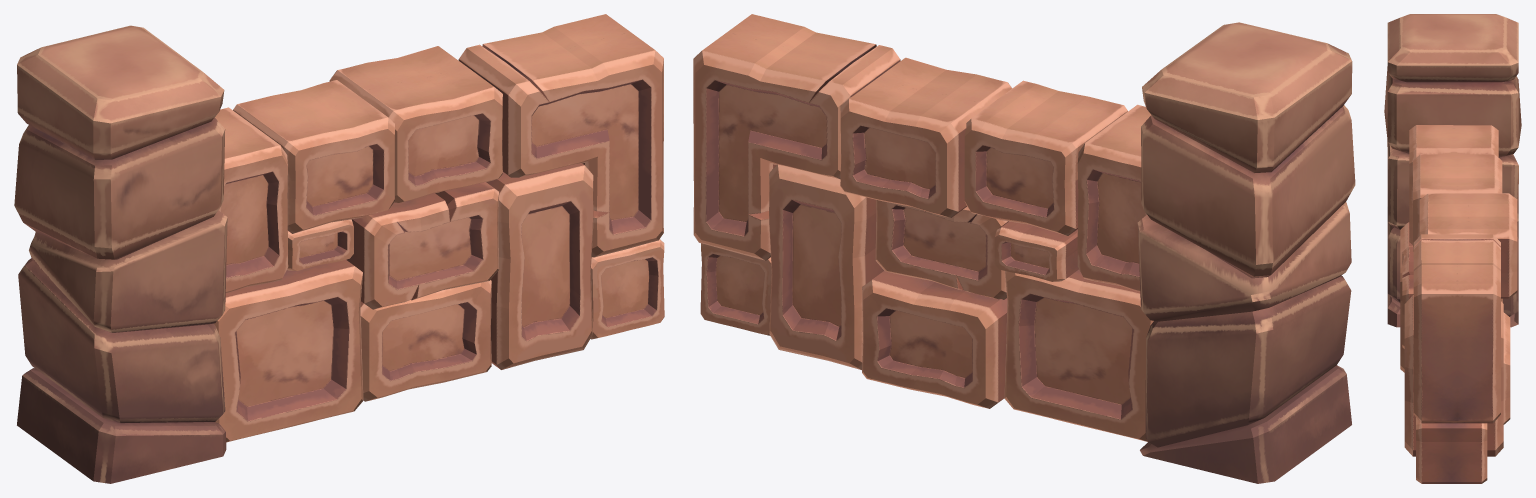
The model's file is HalfWallHalfPillar.fbx.
The picture shows the model from 3 angles, left to right: view 1: azimuth 30°, elevation 25°; view 2: azimuth 150°, elevation 25°; view 3: azimuth 270°, elevation 25°; orthographic projection. The views are drawn at different scales.
Parts seen in each view (by area): view 1: HalfWallHalfPillar; view 2: HalfWallHalfPillar; view 3: HalfWallHalfPillar.
Part boxes in pixels (left/top/right/bottom): HalfWallHalfPillar: left=14, top=14, right=664, bottom=483; HalfWallHalfPillar: left=693, top=14, right=1355, bottom=483; HalfWallHalfPillar: left=1384, top=14, right=1521, bottom=483.
Size of the model in its own units: 2.37 by 1.47 by 0.6602.
